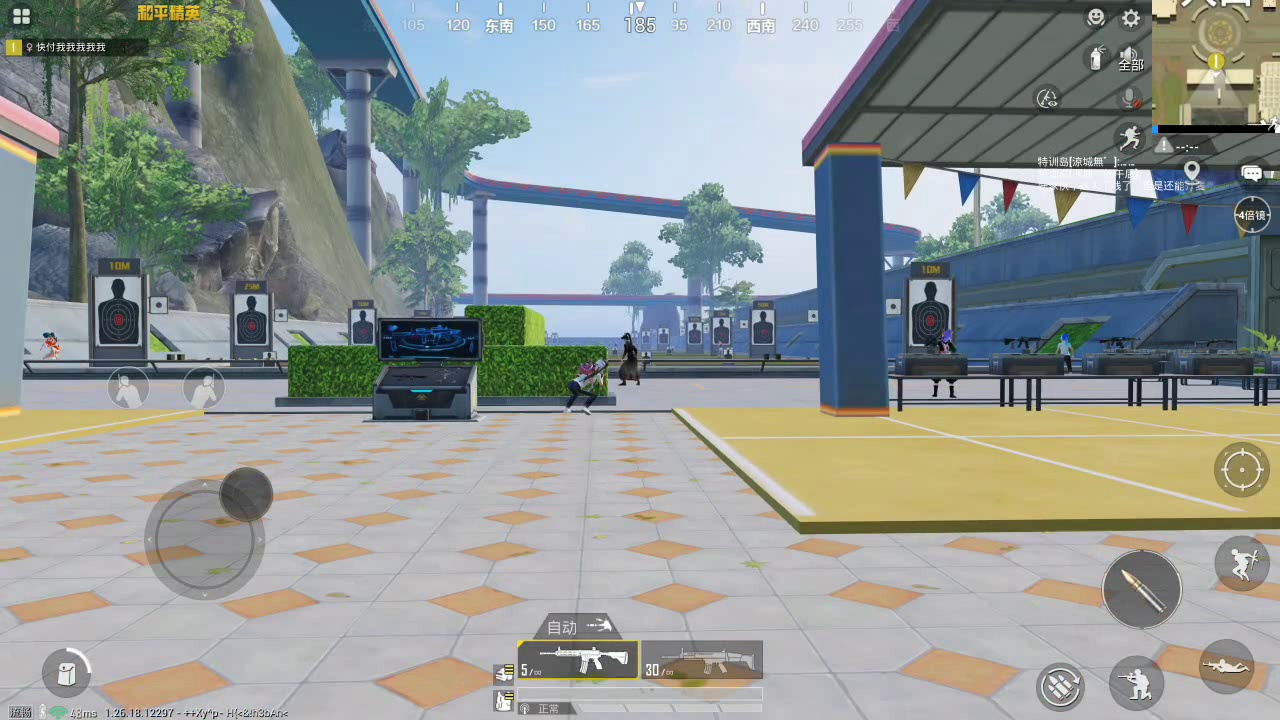enemy: (568, 356, 611, 418), (928, 331, 958, 397), (617, 331, 647, 385), (1057, 330, 1077, 373), (38, 328, 64, 361)
